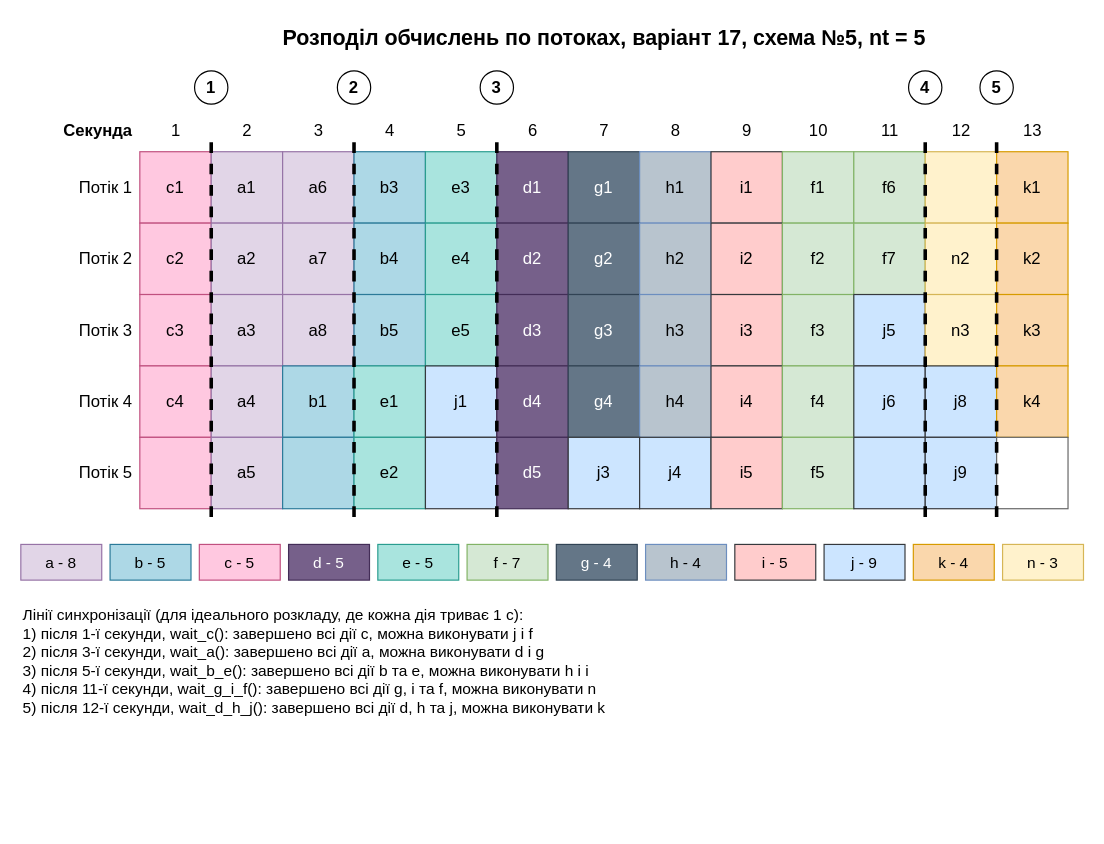
Image size: 1104x844. Some labels were removed from this diagram. The shapes that lost their labels are listed below. From the top down, each one's box as (x1, y1, x2, y2) in pixels, then its label:
(924, 151, 997, 223): n1
(139, 436, 211, 509): c5
(281, 436, 354, 509): b2
(424, 436, 497, 509): j2
(853, 436, 925, 509): j7
